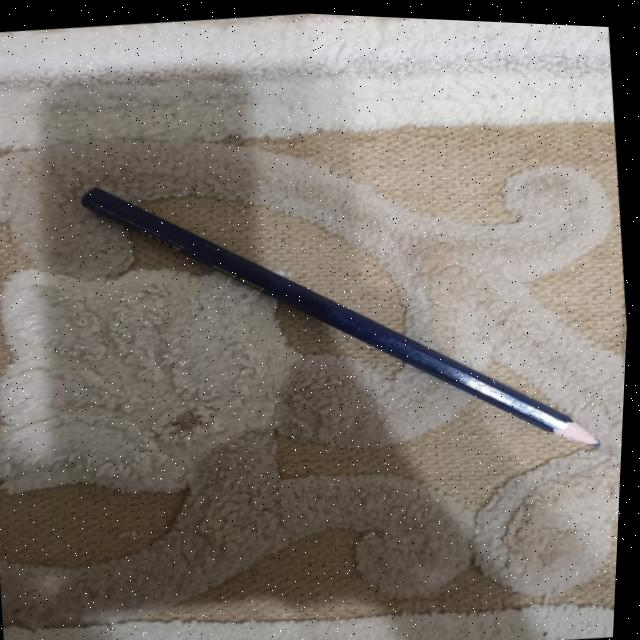pencil: (69, 176, 614, 453)
